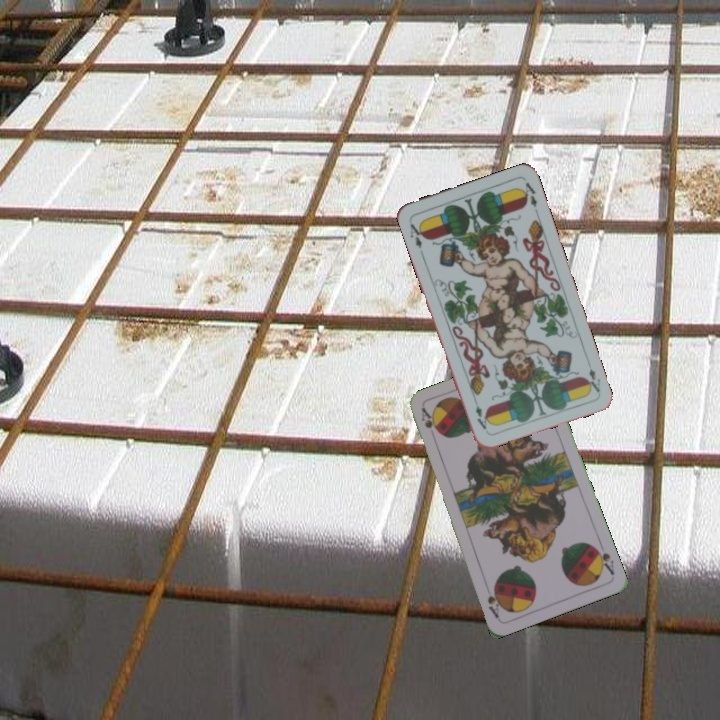EA: (405, 217, 427, 251), (581, 365, 603, 395)
SA: (589, 539, 617, 578), (417, 404, 439, 443)
